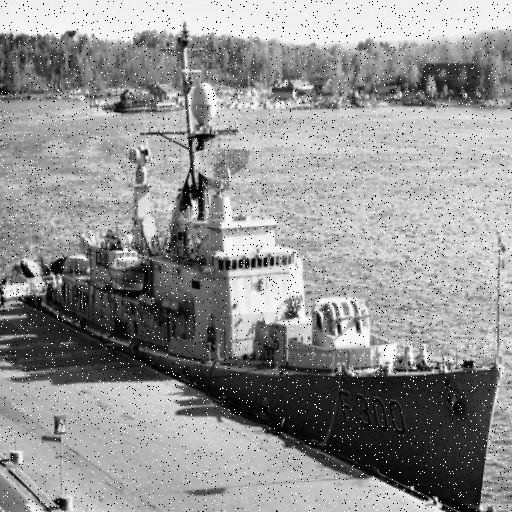Fragata: (35, 29, 507, 509)
